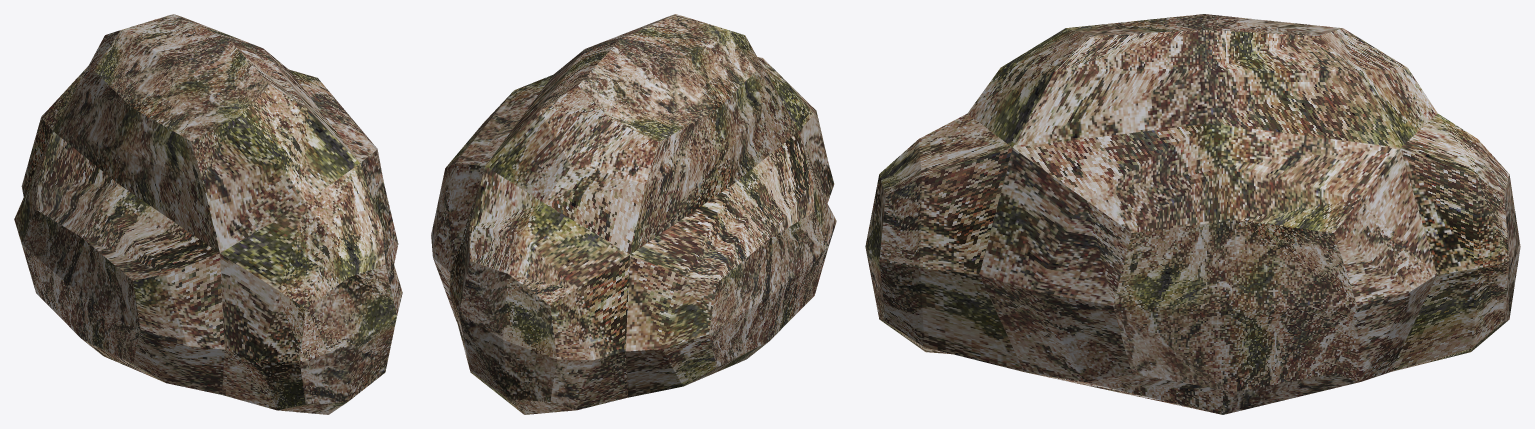
Rendered from pixel_rock2_lowpoly.fbx.
3 views of the same model, side by side, from view 1: azimuth 30°, elevation 25°; view 2: azimuth 150°, elevation 25°; view 3: azimuth 270°, elevation 25° (orthographic). The views are drawn at different scales.
Parts seen in each view (by area): view 1: psx_rock2_lowpoly; view 2: psx_rock2_lowpoly; view 3: psx_rock2_lowpoly.
Boxes of the visible parts, x1,y1,x2,y2 form: psx_rock2_lowpoly: (14, 14, 402, 414); psx_rock2_lowpoly: (431, 14, 836, 414); psx_rock2_lowpoly: (865, 14, 1520, 414).
Size of the model in its own units: 358 by 353 by 608.
